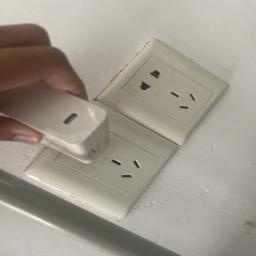outlet: (23, 101, 177, 229), (92, 28, 232, 139)
